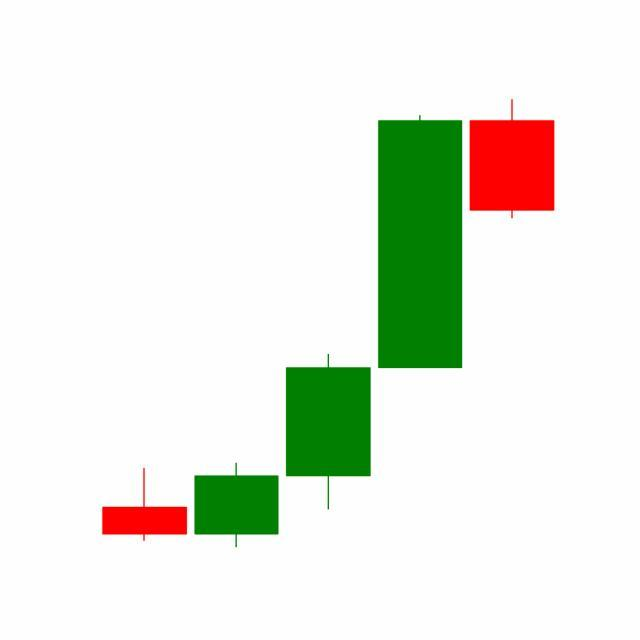Marubozu: (374, 113, 468, 372)
